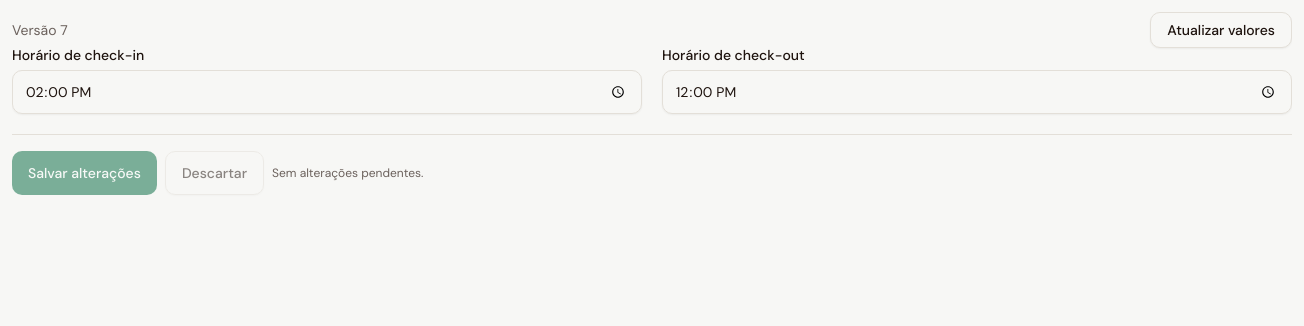
Test: Formulário por seção › mantém rascunho na falha; envia versão e somente campos desta seção
This screenshot has width=1304, height=326.
Replace the text in the time field labelled "Horário de check-in" with "15:00" at (327,92), box [12,70,642,114]
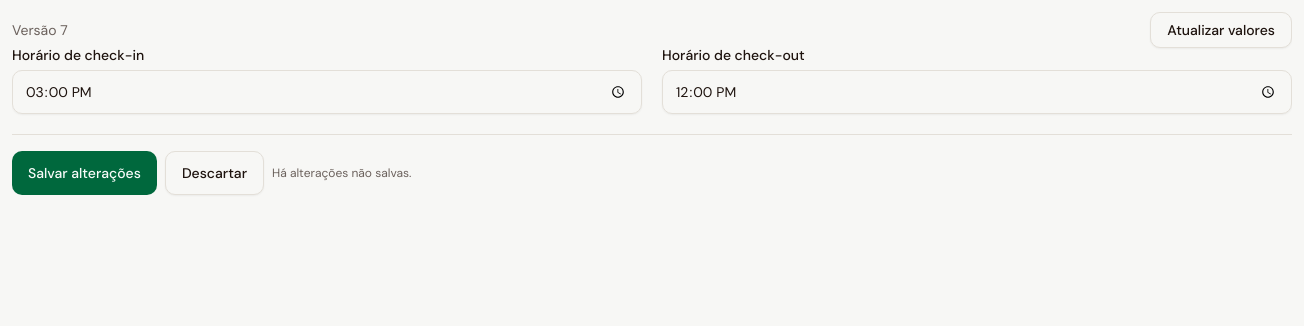
Click the button "Salvar alterações" at (84,173), box [12,151,157,195]
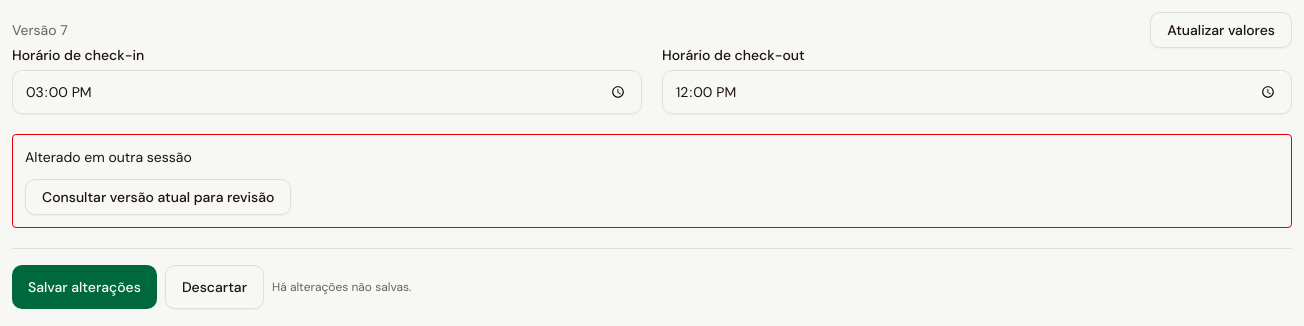
Expected: the text "Alterado em outra sessão" is shown, [25,148,192,166]
Click the button "Salvar alterações" at (84,287), box [12,265,157,309]
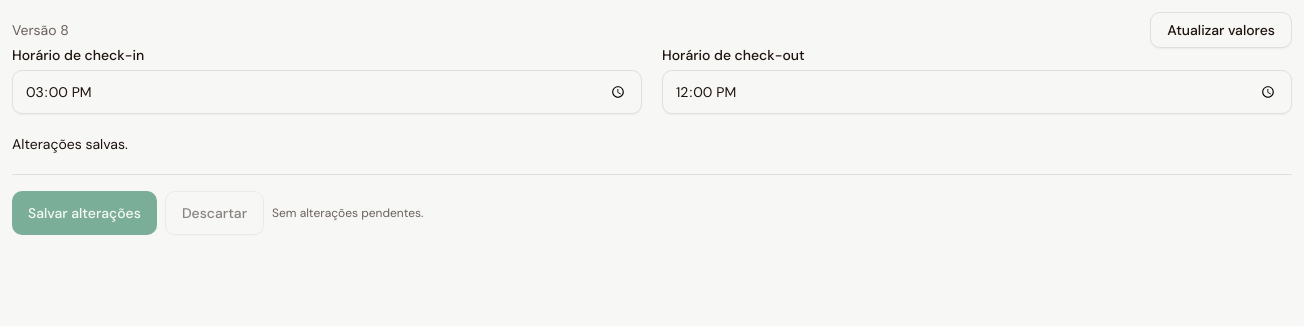
Expected: the text "Alterações salvas." is shown, [12,135,128,153]
Expected: the button "Salvar alterações" is disabled, [12,191,157,235]
